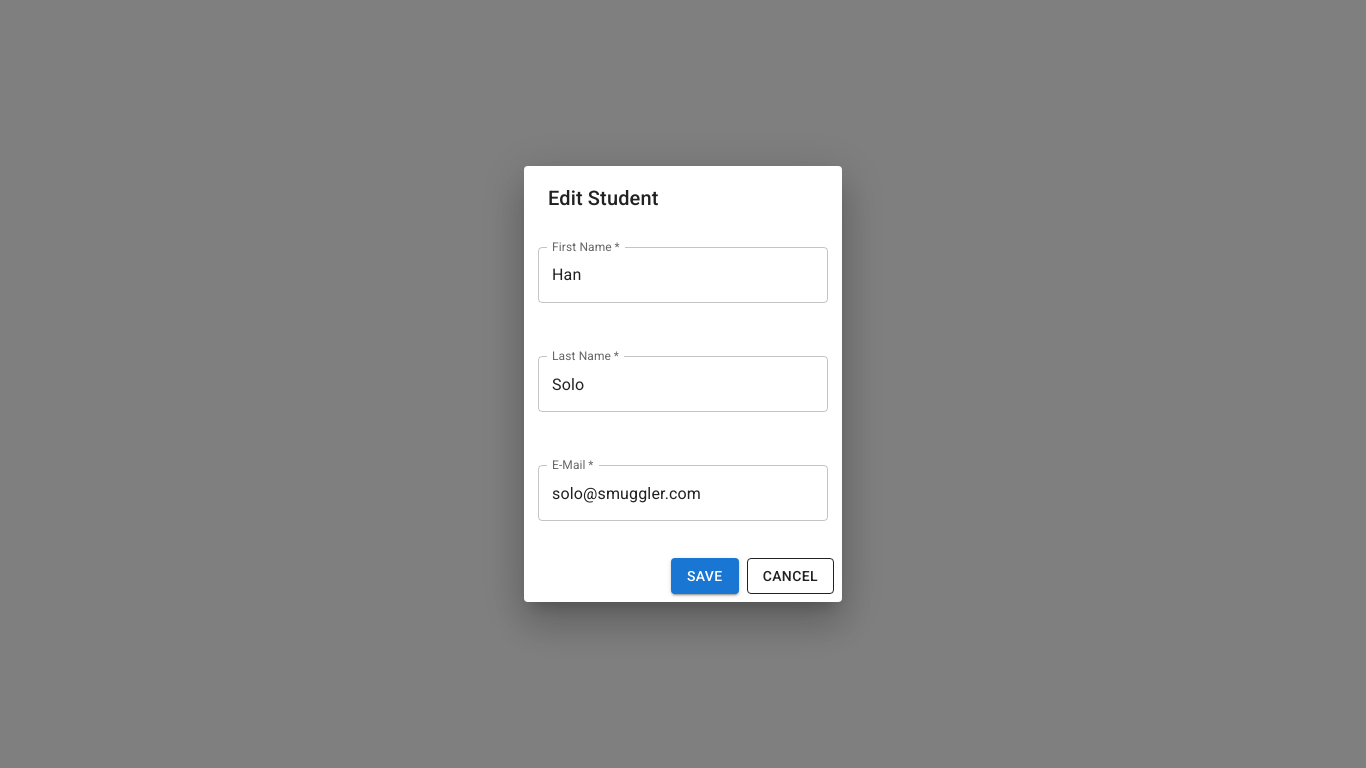
Test case: EditStudentModal › Form Validation › validates first name field
Replace the text in the field labelled "First Name *" with "123" at (683, 275), box [538, 247, 828, 303]
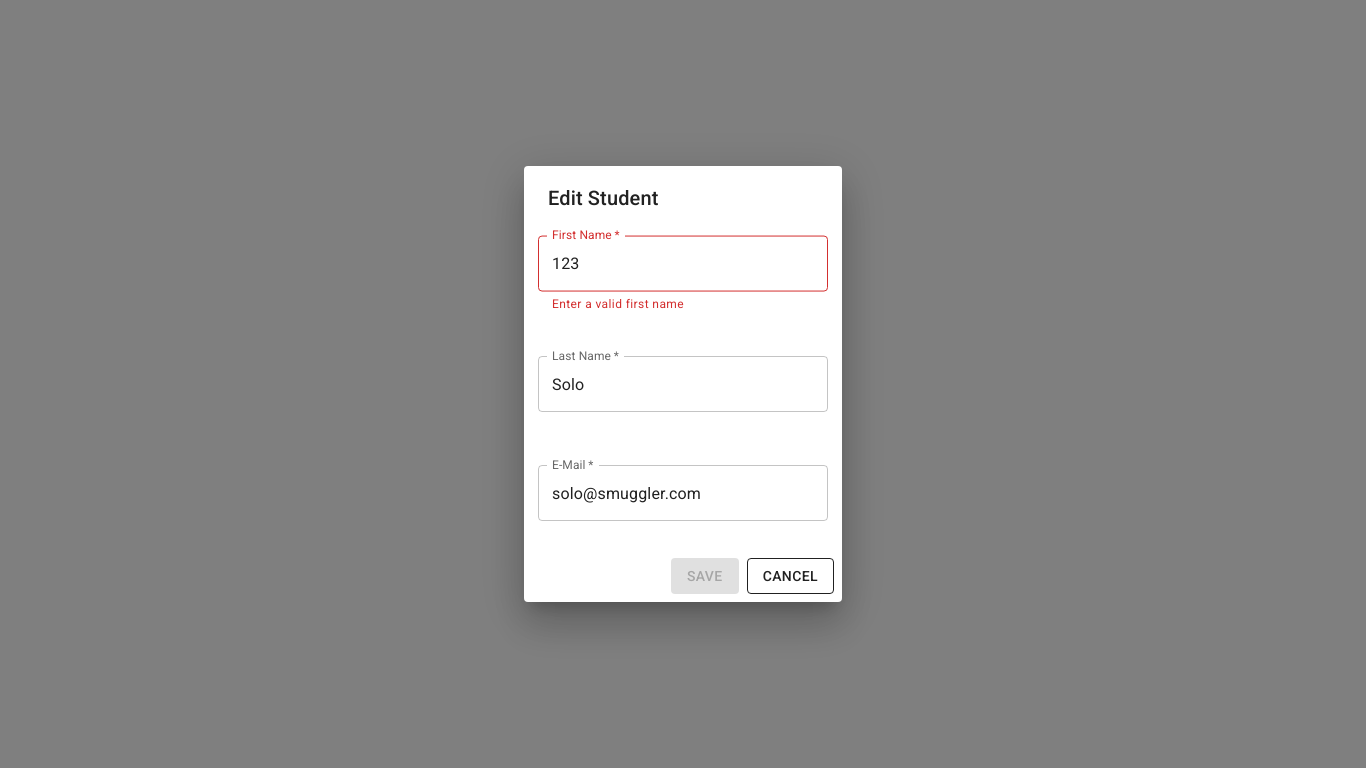
Check: the text "Enter a valid first name" is shown, box [552, 296, 684, 310]
Replace the text in the field labelled "First Name *" with "Han" at (683, 263), box [538, 235, 828, 291]
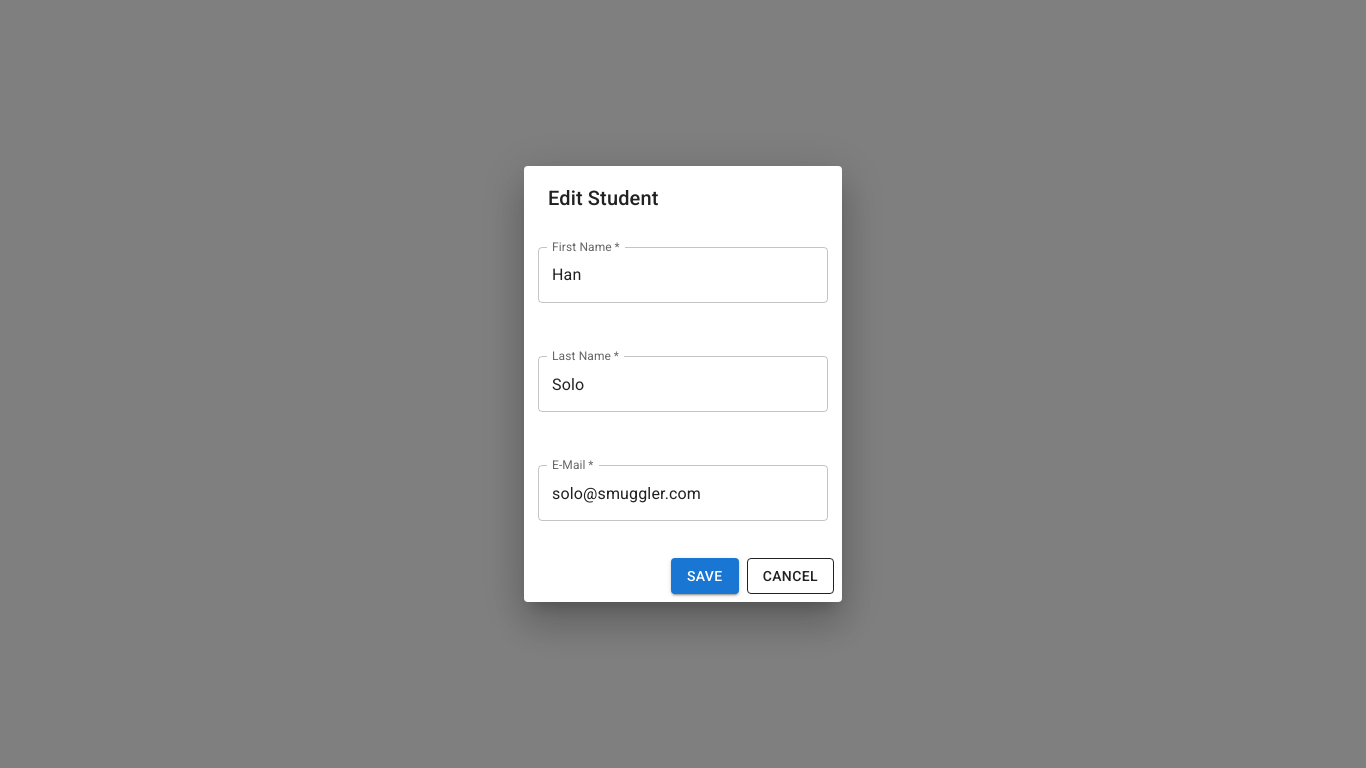
Check: the text "Enter a valid first name" is gone
